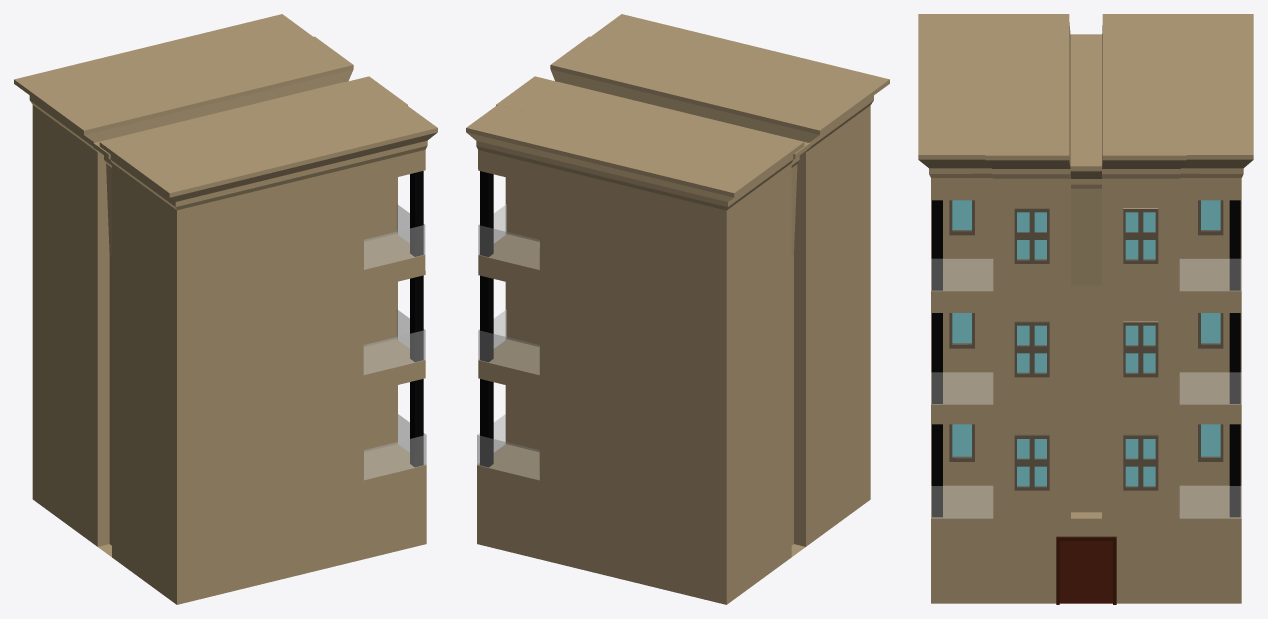
Rendered from building.fbx.
3 views of the same model, side by side, from view 1: azimuth 30°, elevation 25°; view 2: azimuth 150°, elevation 25°; view 3: azimuth 270°, elevation 25° (orthographic). The views are drawn at different scales.
Parts seen in each view (by area): view 1: Cube; view 2: Cube; view 3: Cube.
Part boxes in pixels (<box>): Cube: <box>14,14,437,604</box>; Cube: <box>466,14,889,604</box>; Cube: <box>918,14,1253,604</box>.
Size of the model in its own units: 572 by 850 by 572.
